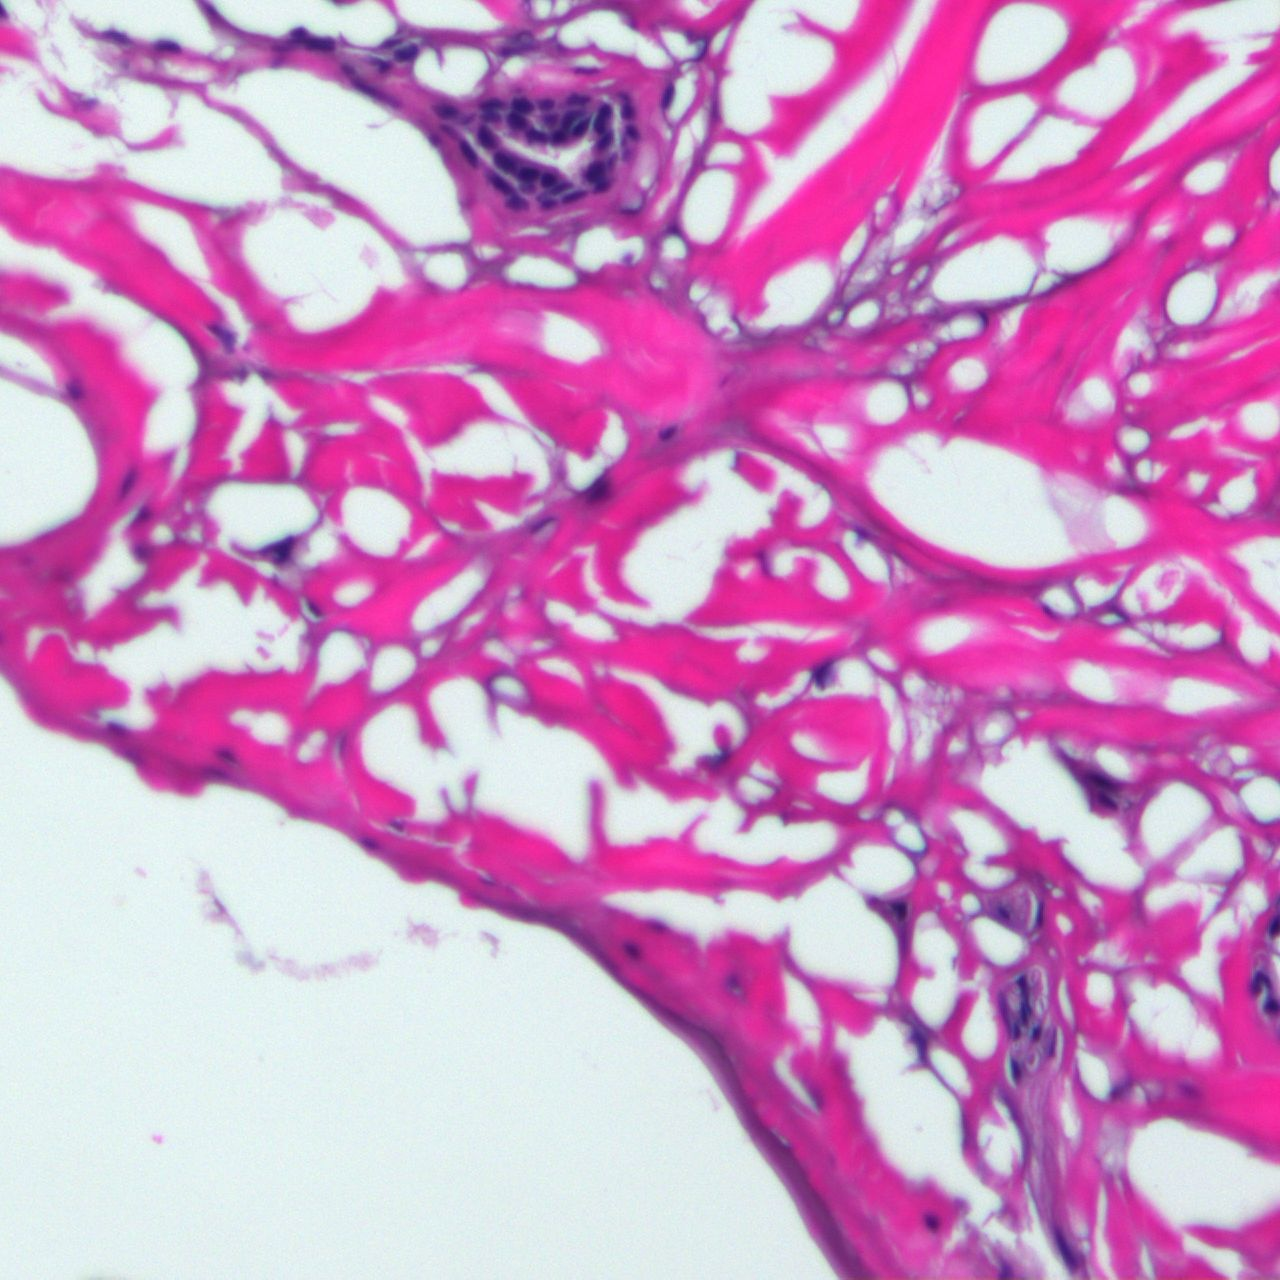nucleus-HE: (583, 159, 613, 195), (581, 474, 613, 505), (457, 138, 481, 169), (393, 42, 418, 64), (592, 103, 611, 134), (492, 150, 516, 173), (474, 125, 496, 148), (504, 109, 527, 130), (481, 98, 502, 122), (658, 82, 676, 108), (307, 36, 334, 54), (490, 173, 511, 195), (921, 1210, 941, 1232), (622, 940, 644, 960), (525, 125, 546, 144), (594, 131, 614, 150), (570, 118, 588, 138), (156, 38, 181, 52), (511, 96, 530, 114), (561, 189, 583, 203), (1251, 971, 1262, 995), (437, 104, 457, 118), (539, 171, 556, 188), (892, 903, 907, 919), (518, 168, 537, 181), (624, 124, 639, 139), (1269, 915, 1280, 937), (1264, 999, 1278, 1010), (508, 196, 522, 207), (568, 95, 586, 104), (552, 130, 565, 142), (622, 105, 633, 118), (544, 113, 554, 123), (542, 98, 553, 108)
